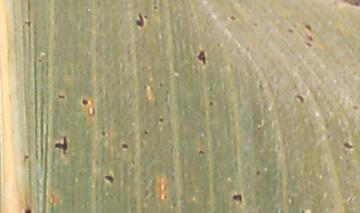tarspot: (54, 137, 68, 155), (195, 49, 207, 67), (135, 11, 145, 27), (102, 172, 114, 183), (232, 191, 242, 203), (296, 93, 306, 105), (342, 141, 353, 151), (56, 92, 66, 100), (227, 13, 237, 21), (81, 98, 89, 107), (119, 143, 129, 150), (352, 104, 360, 112), (23, 20, 32, 27), (304, 23, 311, 32), (157, 116, 165, 123), (207, 100, 215, 107), (197, 148, 205, 155), (307, 40, 313, 49), (254, 169, 261, 176), (307, 35, 314, 42), (287, 28, 295, 34), (22, 153, 29, 159), (100, 130, 106, 137), (143, 129, 149, 136), (36, 58, 43, 64), (23, 208, 31, 213), (152, 5, 158, 11), (253, 21, 258, 28), (159, 82, 164, 88), (300, 209, 305, 213), (143, 14, 147, 18)
